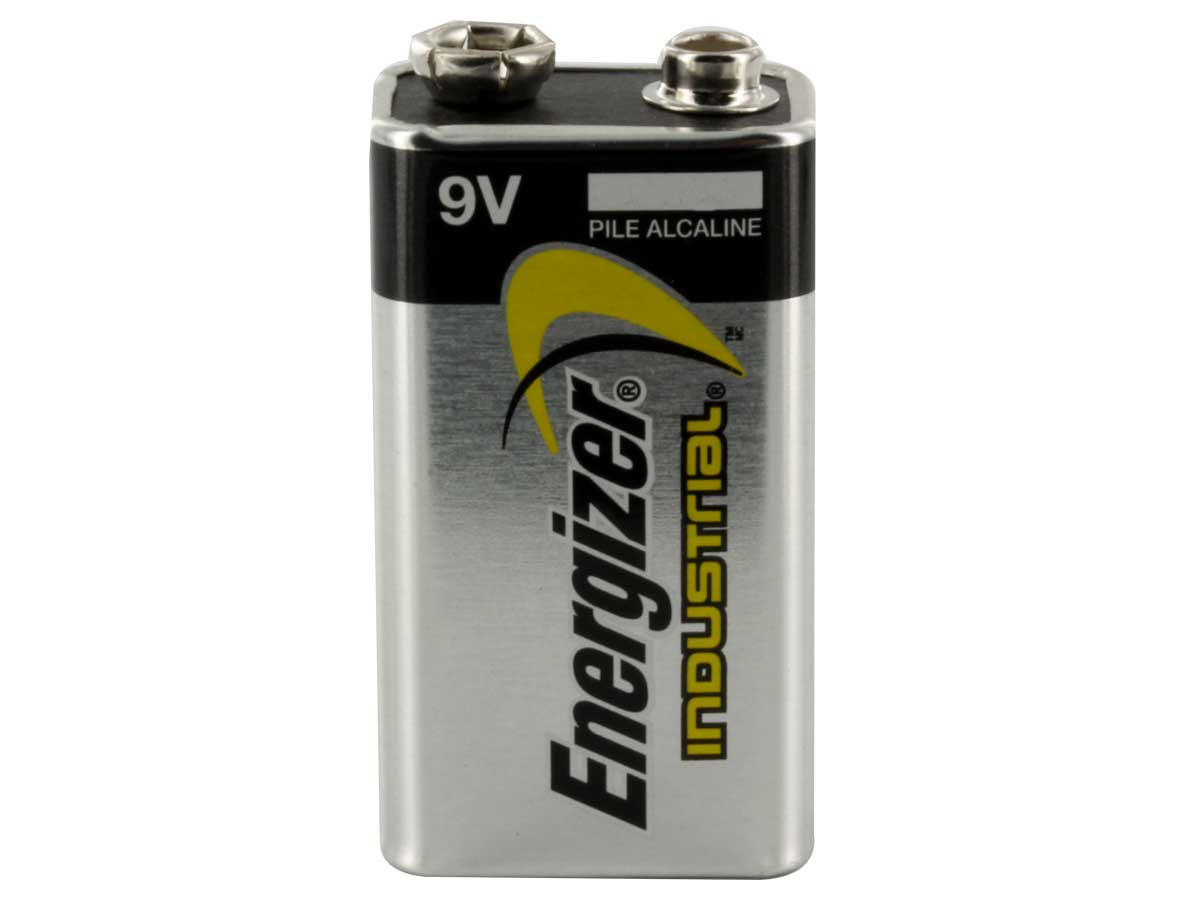9V: (343, 19, 849, 885)
